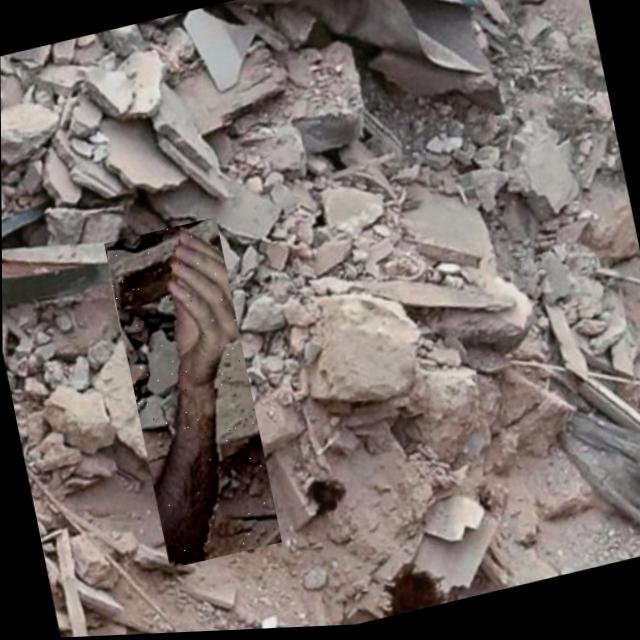Person in Rubble: (103, 217, 281, 573)
